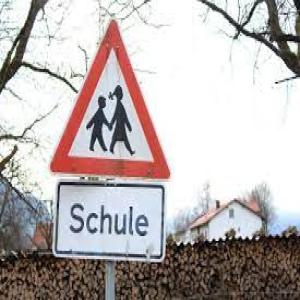SCHOOL CROSSING: (49, 17, 173, 182)
